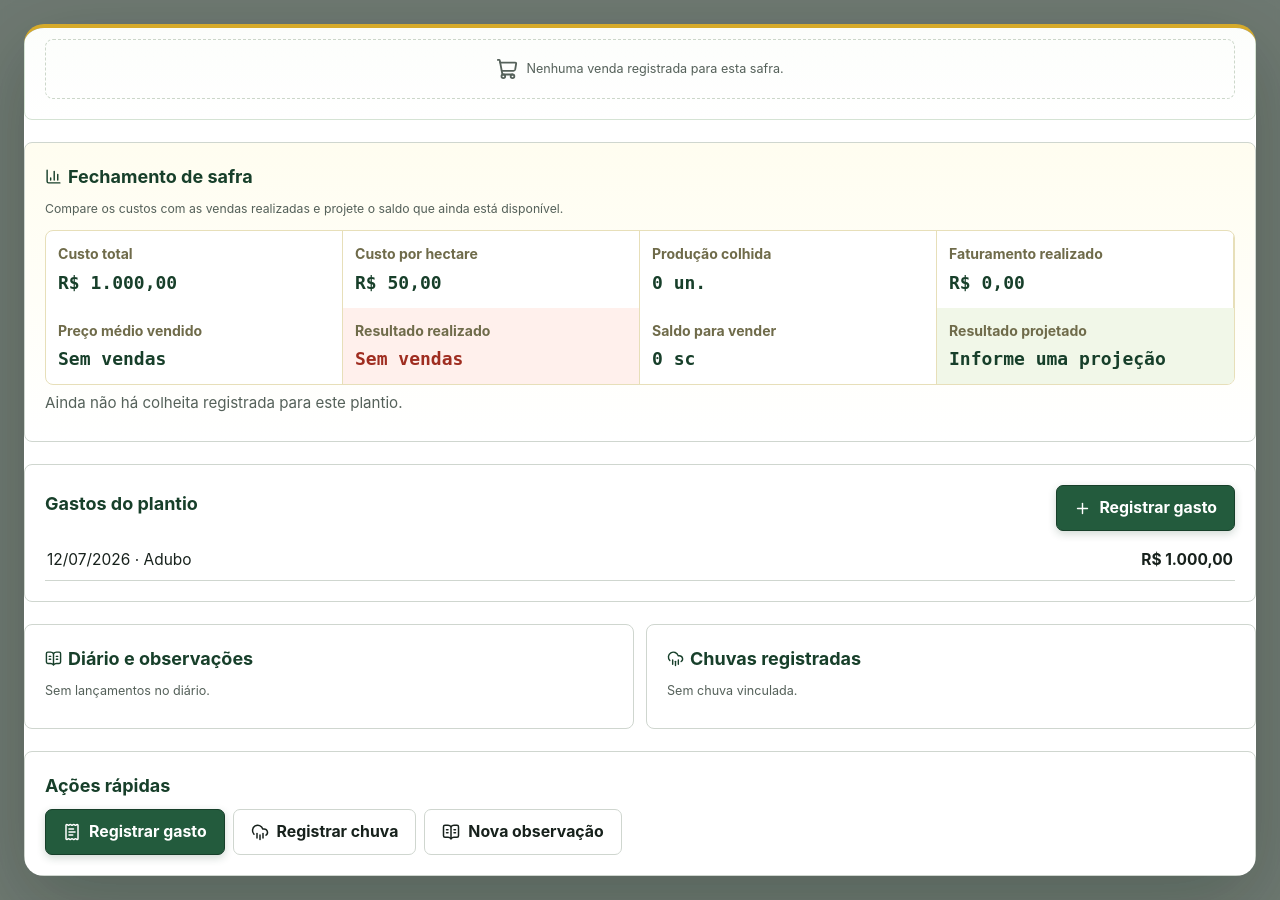
Scenario: PlantingDetailsModal › usa produto do estoque e transfere o custo para o plantio
(page scrolled)
Click the button "Registrar gasto" in the row of "Gastos do plantio": (1146, 508) [1056, 485, 1235, 531]
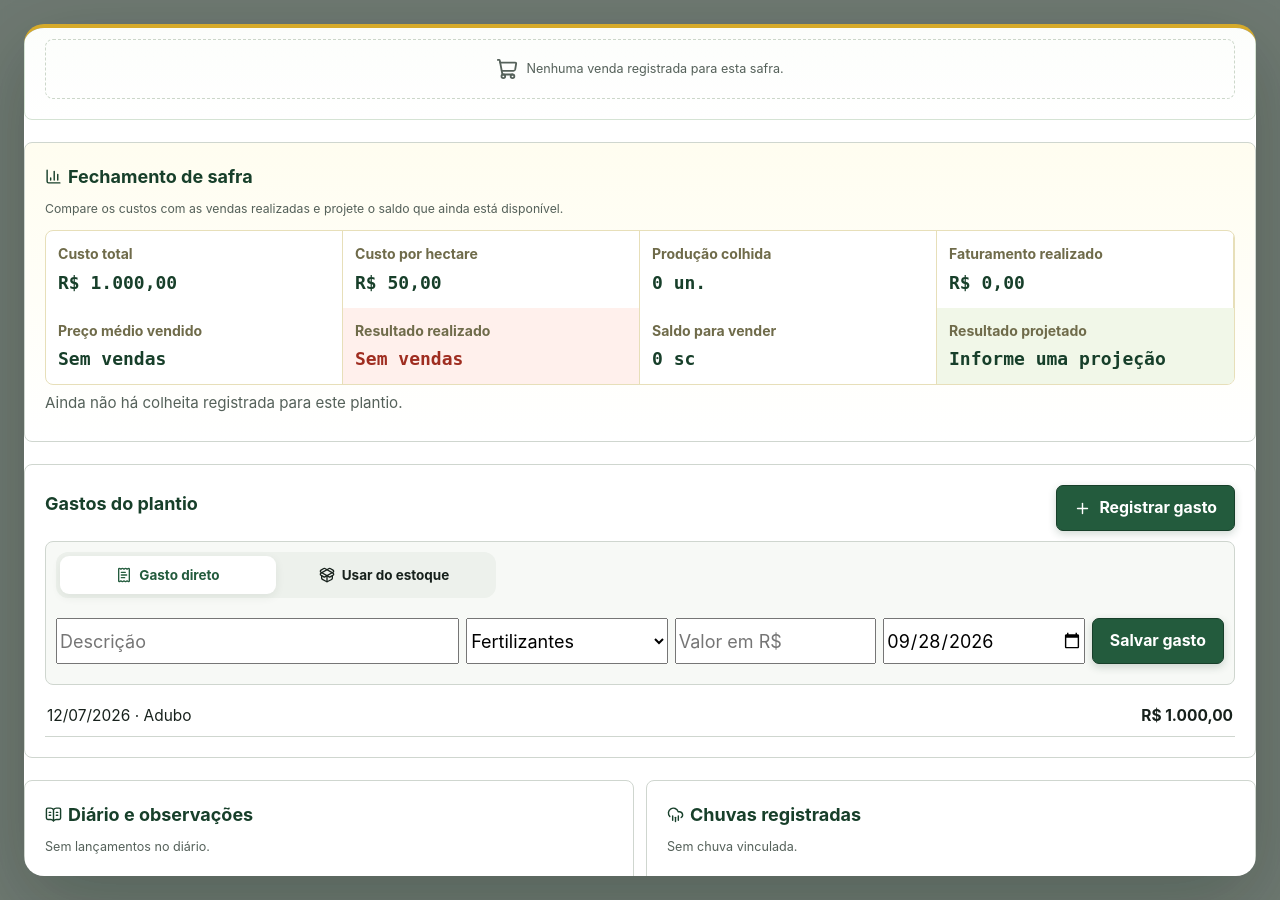
Click the radio button "Usar do estoque": (384, 575) [319, 567, 449, 583]
(page scrolled)
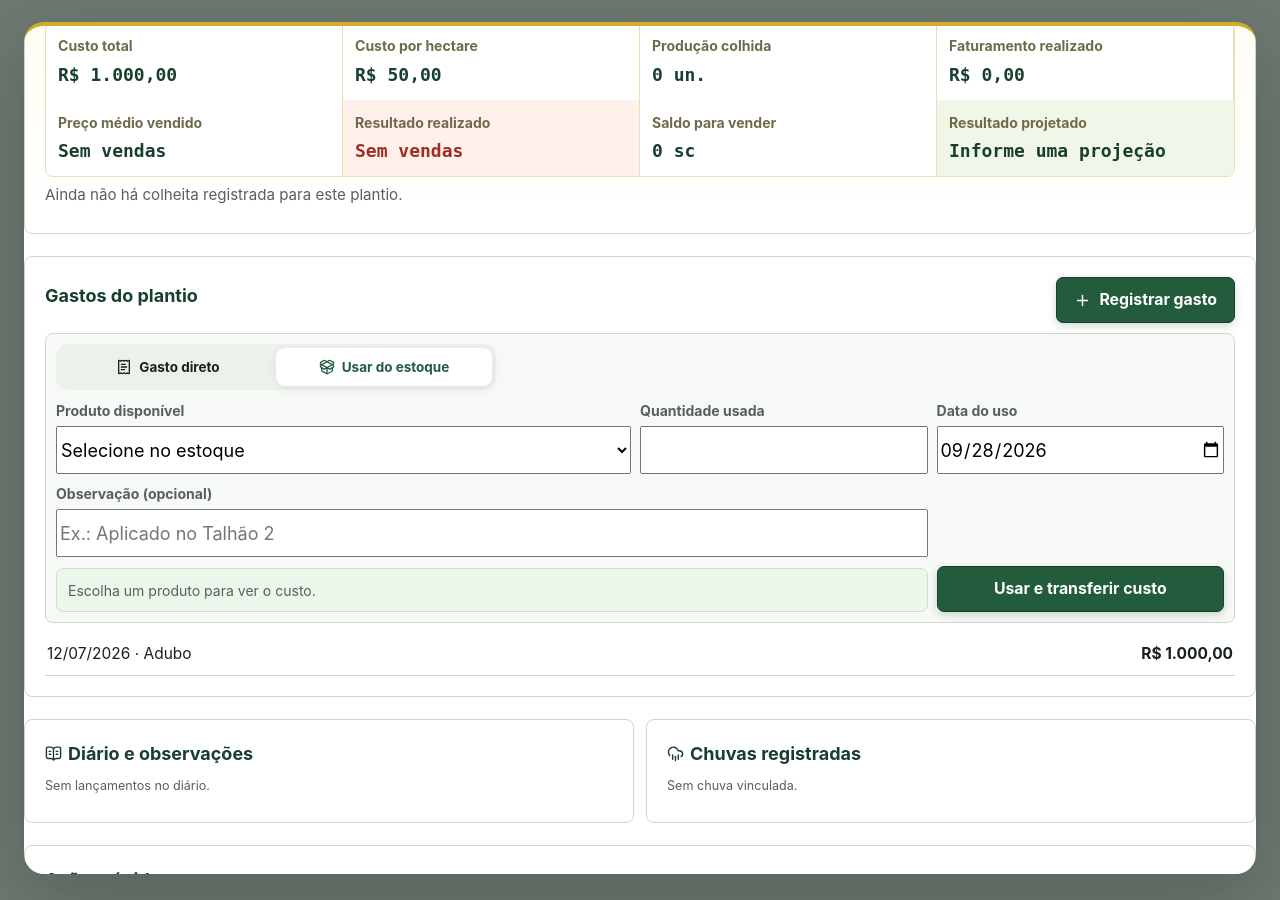
Select "Adubo — 3 unidades" in the dropdown labelled "Produto disponível": (344, 450) [56, 426, 631, 474]
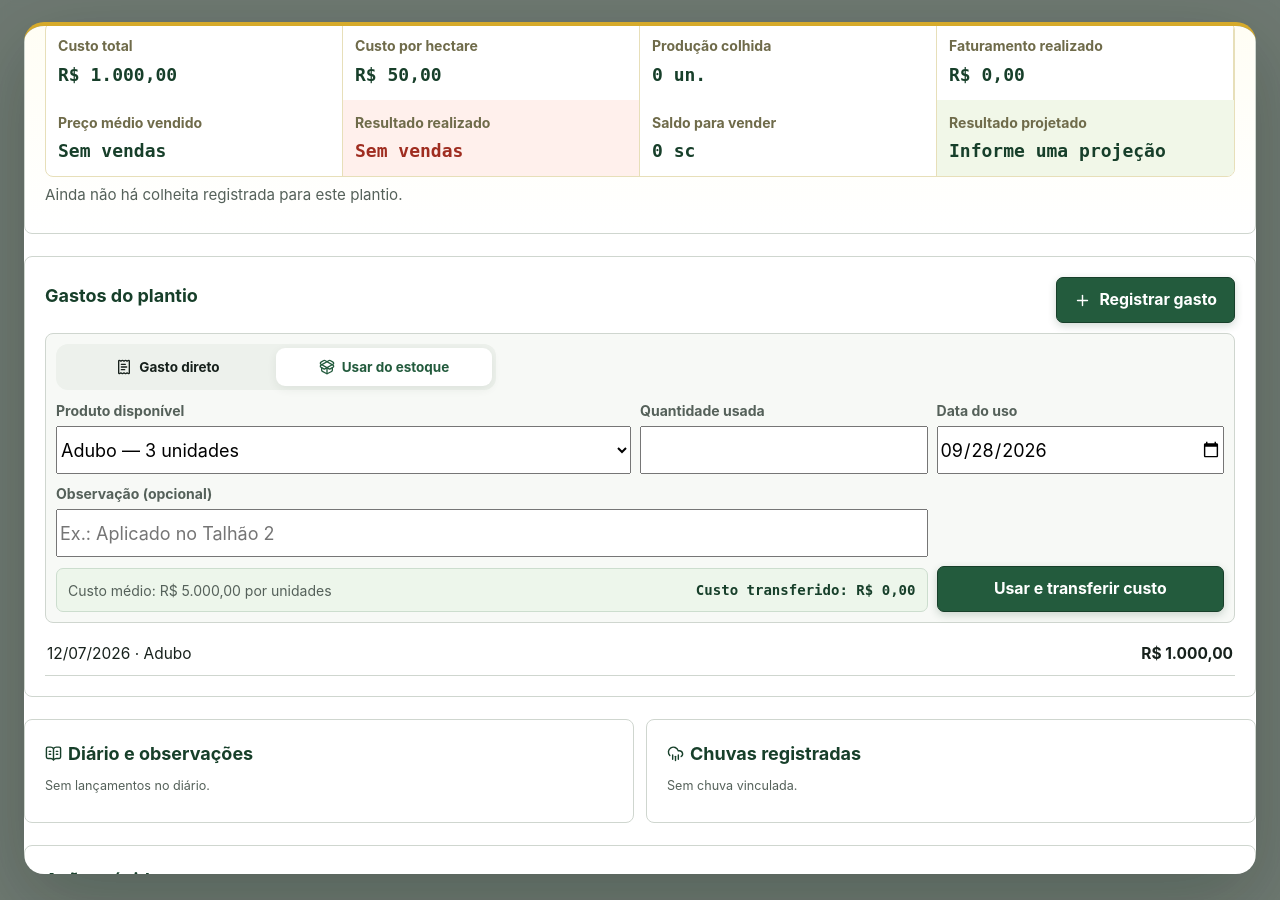
In the number field labelled "Quantidade usada": (784, 450) [640, 426, 928, 474], type "1"
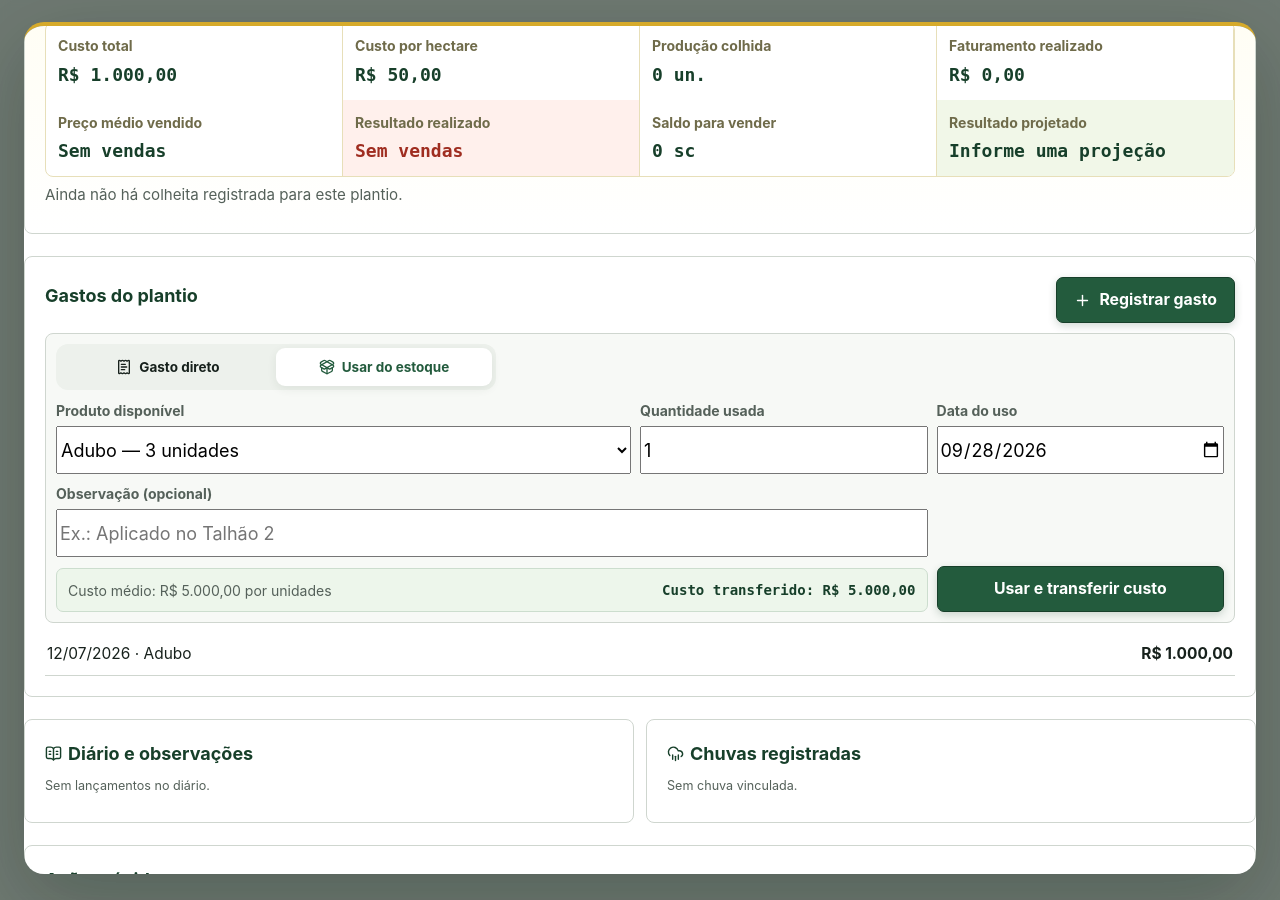
Check: the text "Custo transferido: R$ 5.000,00" is shown, box [662, 580, 916, 601]
Click the button "Usar e transferir custo": (1080, 589) [936, 566, 1224, 612]
(page scrolled)
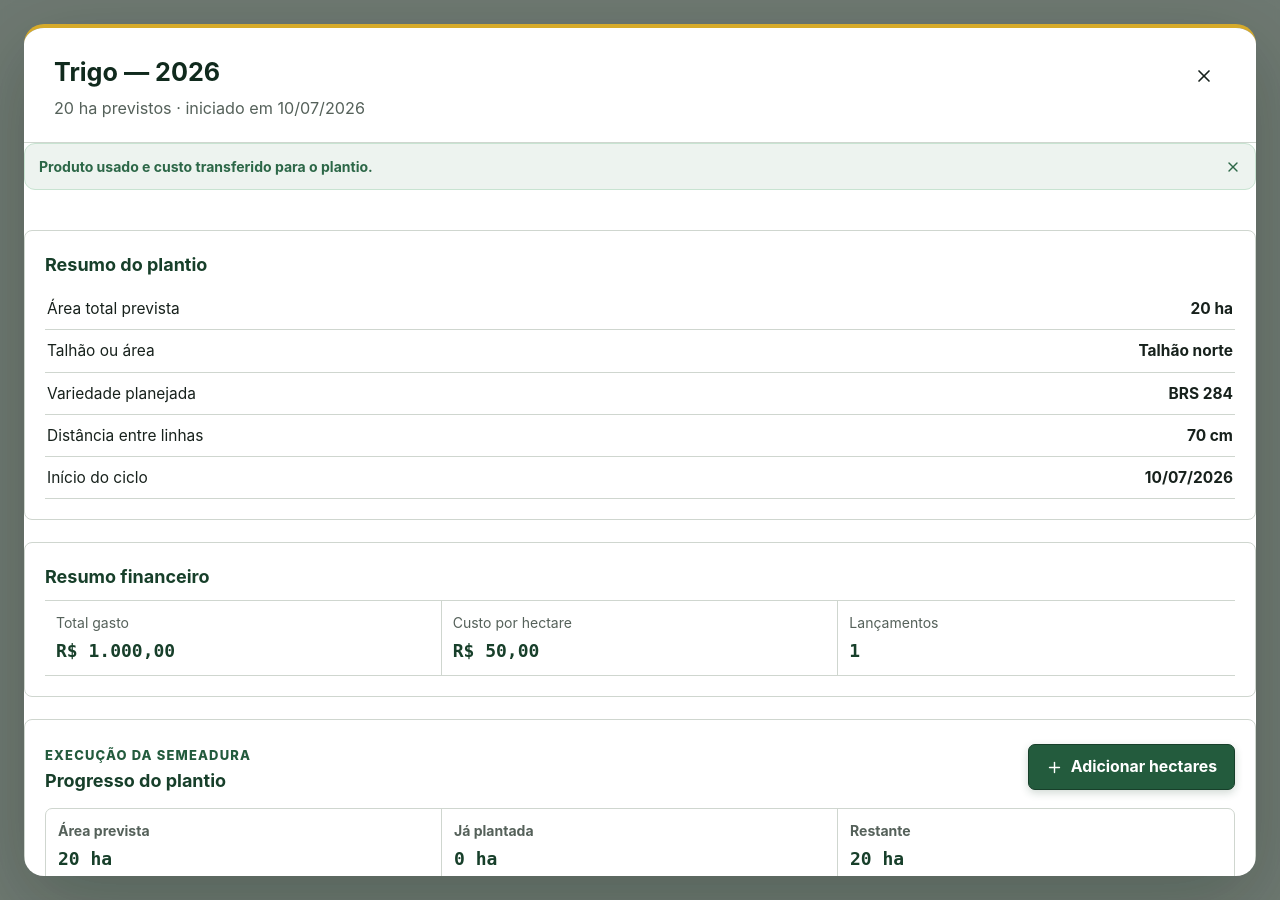
Check: the text "Produto usado e custo transferido para o plantio." is shown, box [39, 158, 373, 175]
